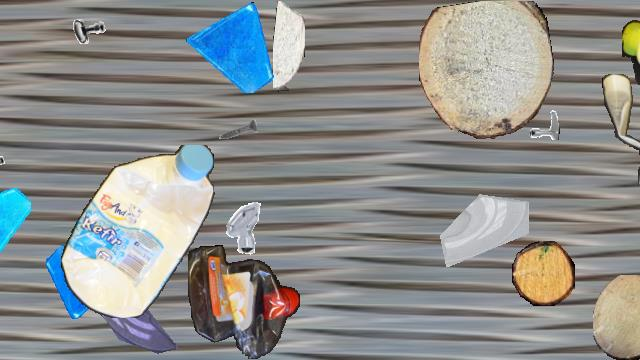glass: (436, 174, 528, 266), (186, 1, 278, 93), (93, 275, 177, 359), (46, 243, 122, 319), (0, 180, 31, 262)
metal: (212, 197, 270, 255), (518, 98, 560, 140), (217, 108, 259, 150), (69, 9, 109, 49), (0, 151, 17, 201)
plastic: (60, 145, 216, 317), (188, 245, 300, 359), (602, 74, 640, 186), (622, 18, 640, 120)
wood: (419, 1, 553, 139), (512, 241, 574, 305), (593, 275, 640, 359), (273, 1, 305, 91)
